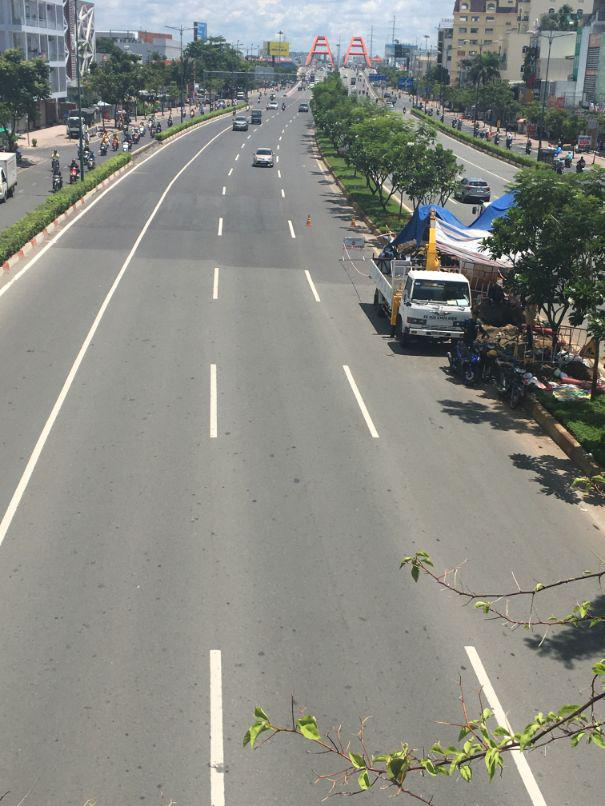car: (457, 178, 491, 204), (254, 149, 274, 170), (232, 114, 249, 132)
truck: (364, 242, 474, 346), (67, 108, 99, 140), (1, 150, 18, 204)
